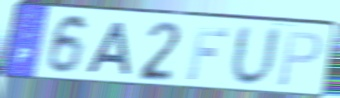2: (136, 20, 184, 83)
6: (42, 13, 93, 80)
A: (84, 20, 133, 78)
F: (185, 25, 231, 82)
P: (275, 30, 324, 89)
U: (228, 23, 284, 90)
